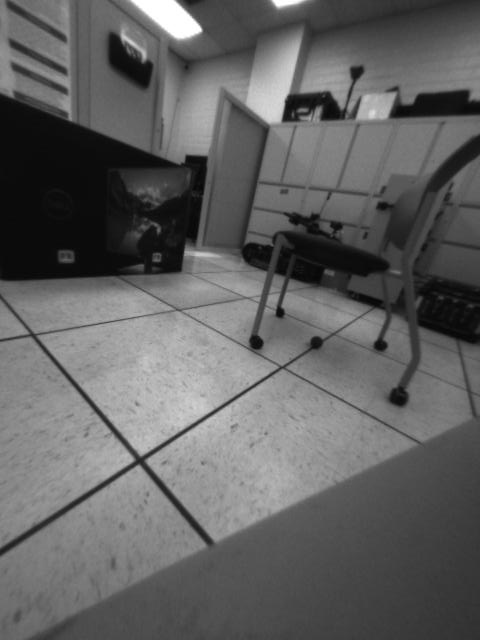dogtoy: (306, 329, 329, 356)
